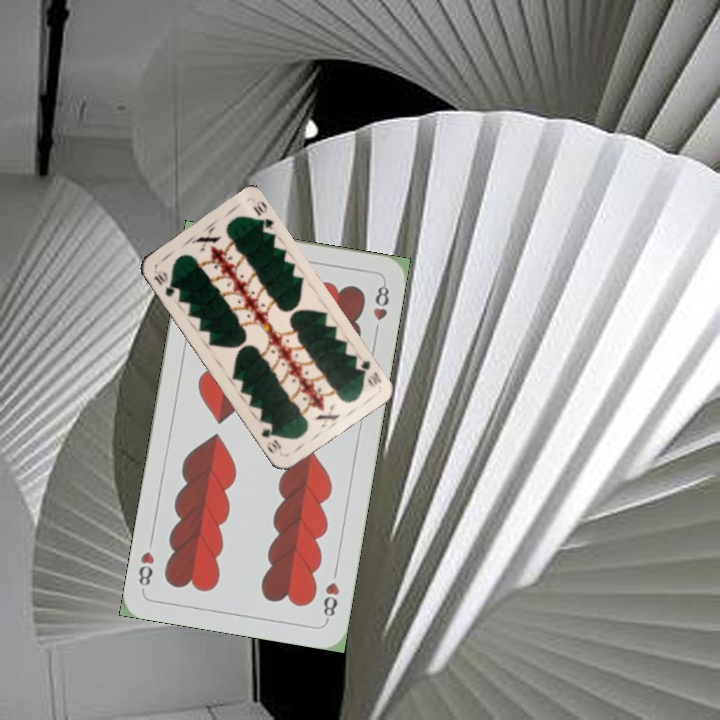G10: (351, 356, 384, 390), (150, 264, 177, 300)
H8: (319, 578, 342, 624)
